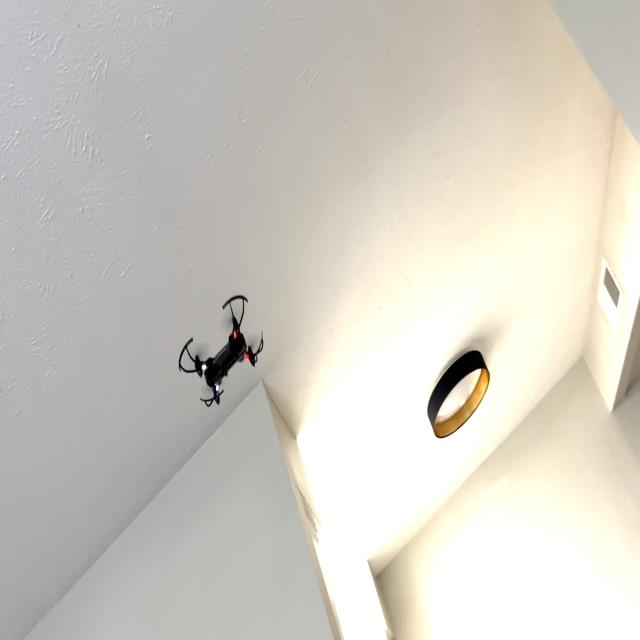drone: (166, 279, 272, 417)
